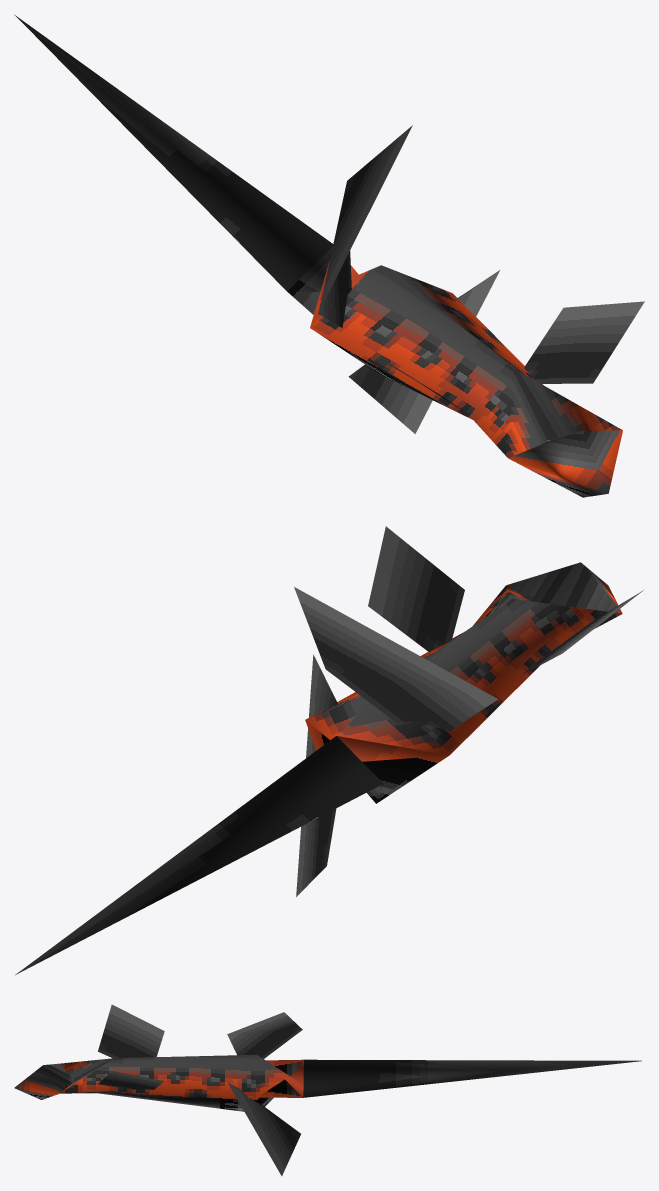
3 renders of one model, top to bottom at view 1: azimuth 30°, elevation 25°; view 2: azimuth 150°, elevation 25°; view 3: azimuth 270°, elevation 25°, orthographic. The views are drawn at different scales.
Parts seen in each view (by area): view 1: 4810fish20; view 2: 4810fish20; view 3: 4810fish20.
Boxes of the visible parts, box(x1,y1,x2,y2) form: 4810fish20: box(14, 14, 644, 497); 4810fish20: box(15, 526, 643, 974); 4810fish20: box(14, 1004, 641, 1176).
Bounding box in the file's own units: 0.2498 × 0.2878 × 1.
Materials: 1 (1 with a texture image).
